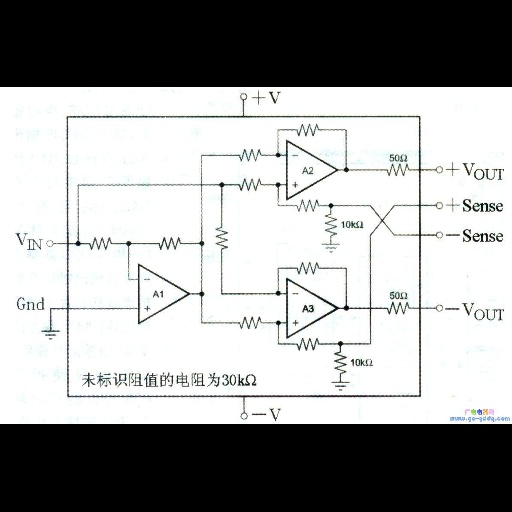amplifier: (132, 259, 192, 330), (283, 137, 341, 201)
gnd: (326, 381, 359, 393), (38, 329, 61, 342)
secondresistance: (291, 257, 325, 277), (235, 143, 265, 165), (293, 121, 324, 141), (232, 175, 266, 193), (294, 334, 323, 355), (83, 233, 114, 252), (378, 163, 412, 180), (323, 209, 341, 240), (153, 234, 185, 251), (234, 314, 264, 332), (378, 301, 412, 316), (293, 197, 321, 213), (332, 349, 348, 376)
